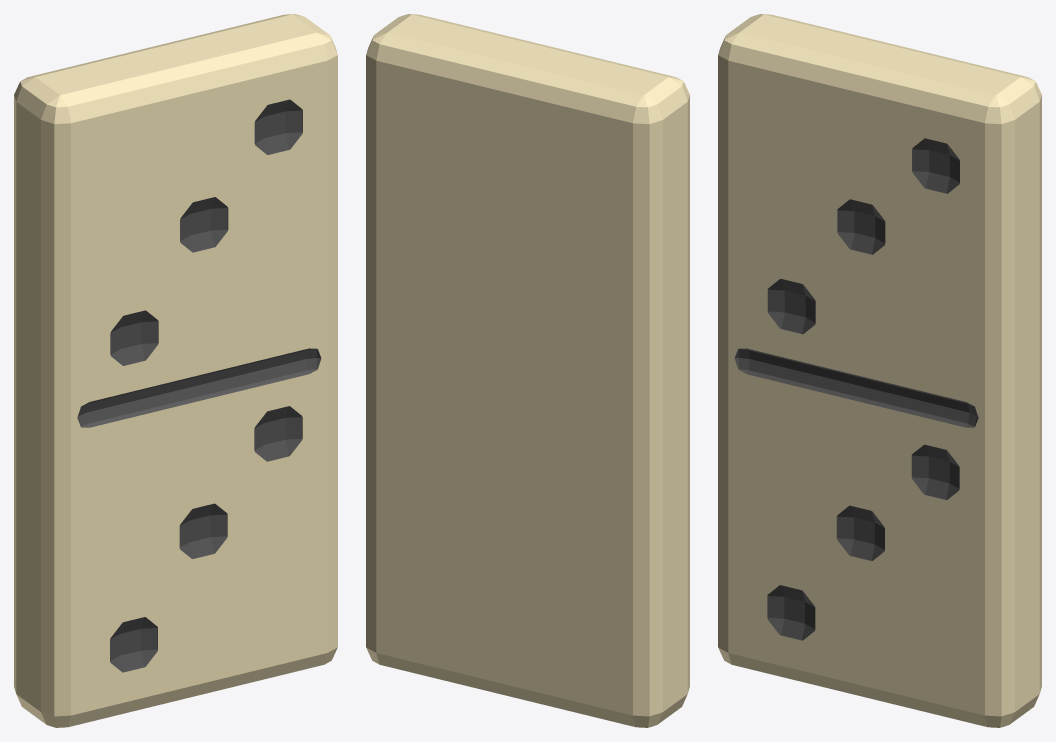
Rendered from dominoes 3x3.fbx.
3 renders of one model, left to right at view 1: azimuth 30°, elevation 25°; view 2: azimuth 150°, elevation 25°; view 3: azimuth 330°, elevation 25°, orthographic.
Parts seen in each view (by area): view 1: Boole_17; view 2: Boole_17; view 3: Boole_17.
Boxes of the visible parts, x1,y1,x2,y2 form: Boole_17: (14,14,337,727); Boole_17: (366,14,689,727); Boole_17: (718,14,1041,727).
Size of the model in its own units: 200 by 410 by 55.02.
